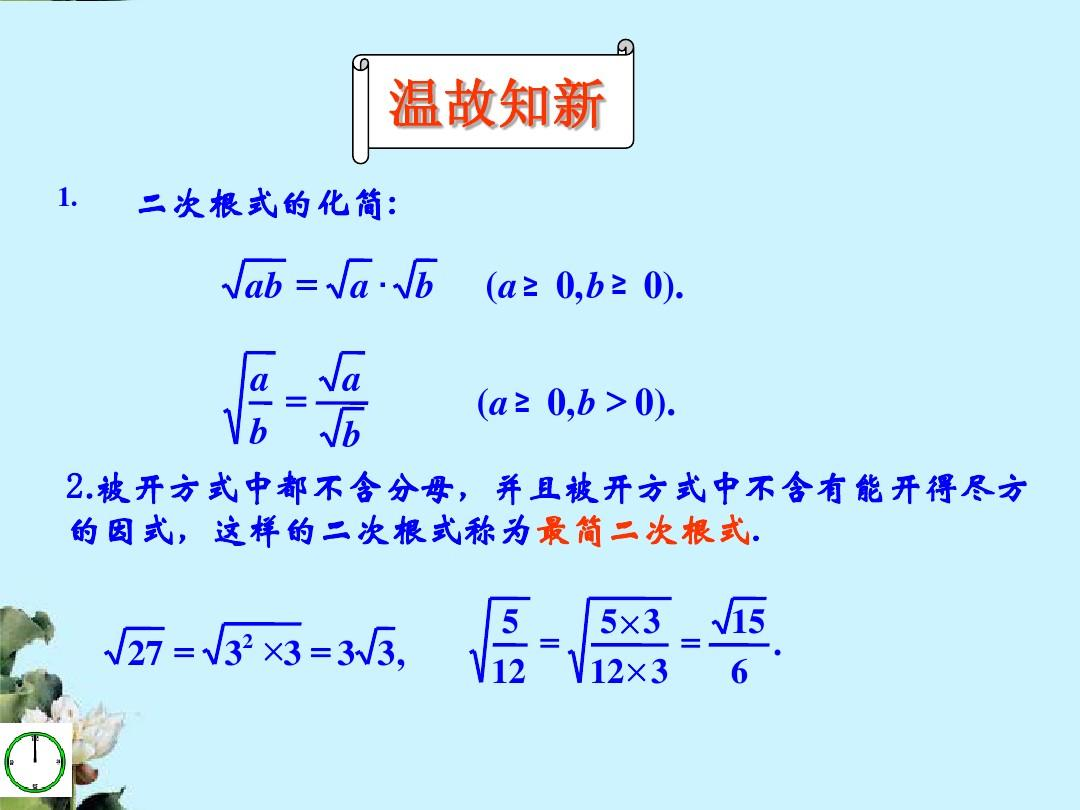division: (586, 636, 669, 652), (709, 638, 773, 650), (489, 637, 526, 653), (312, 398, 374, 407), (249, 395, 275, 407)
sqrt: (566, 587, 679, 691), (467, 591, 538, 689), (223, 344, 279, 452), (199, 619, 305, 673), (214, 254, 292, 302), (102, 621, 172, 670), (318, 402, 371, 455), (316, 343, 366, 392), (713, 594, 766, 640), (389, 252, 438, 301), (326, 250, 374, 299), (362, 621, 401, 669)
square: (240, 631, 253, 649)
